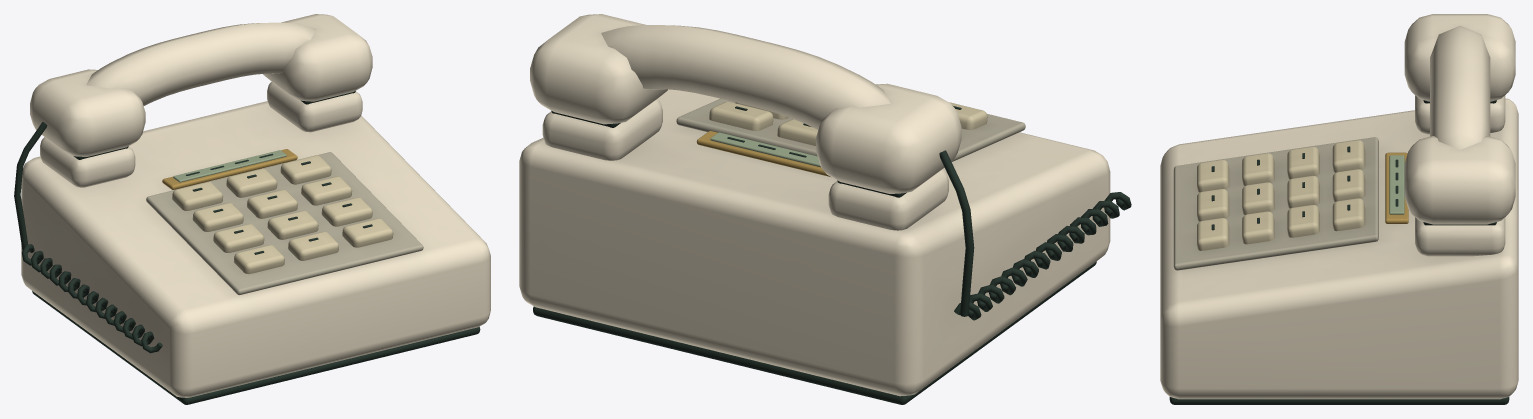
The model's file is phone-06.gltf.
3 renders of one model, left to right at view 1: azimuth 30°, elevation 25°; view 2: azimuth 150°, elevation 25°; view 3: azimuth 270°, elevation 25°, orthographic. The views are drawn at different scales.
Parts seen in each view (by area): view 1: phone-06; view 2: phone-06; view 3: phone-06.
Boxes of the visible parts, x1,y1,x2,y2 form: phone-06: [14, 14, 490, 404]; phone-06: [519, 14, 1131, 404]; phone-06: [1160, 14, 1518, 404].
Size of the model in its own units: 0.4627 by 0.309 by 0.38.
6 materials, 6 textured.
